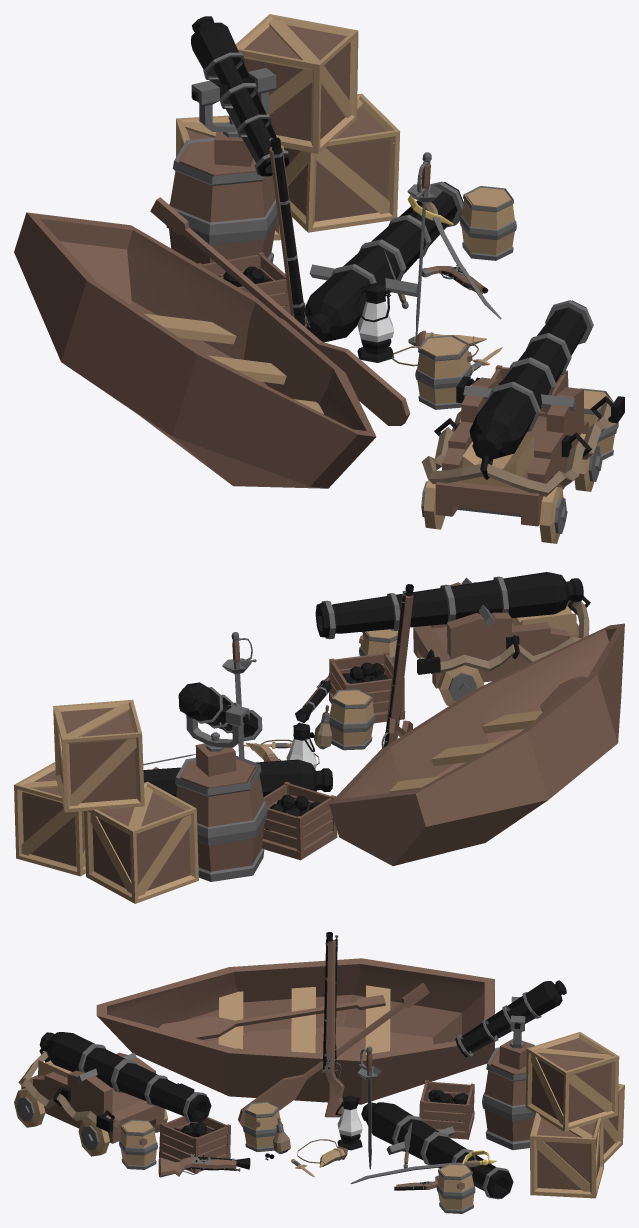
File: PIRATESTUFF.fbx
The picture shows the model from 3 angles, top to bottom: view 1: azimuth 30°, elevation 25°; view 2: azimuth 150°, elevation 25°; view 3: azimuth 270°, elevation 25°; orthographic projection. The views are drawn at different scales.
Parts seen in each view (by area): view 1: Cube.001; view 2: Cube.001; view 3: Cube.001.
Part boxes in pixels (x1,y1,x2,y2): Cube.001: (14,14,624,543); Cube.001: (14,572,624,903); Cube.001: (14,932,624,1213).
Bounding box in the file's own units: 248 × 121 × 369.
